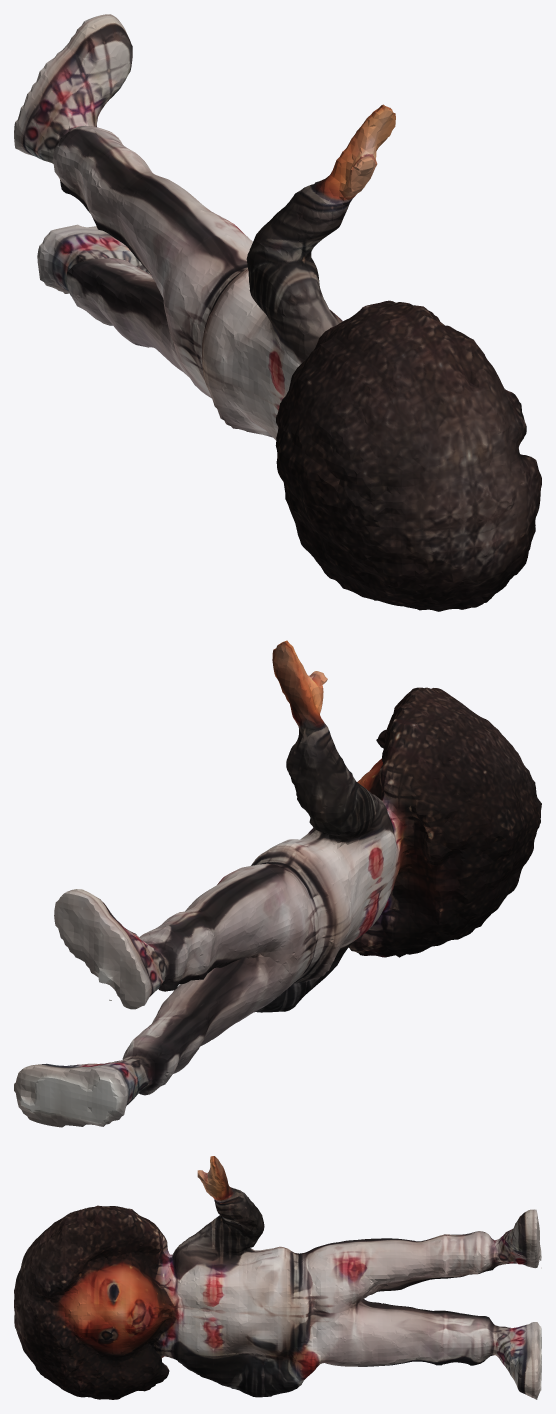
The model's file is skyy-instantmesh.obj.
The picture shows the model from 3 angles, top to bottom: view 1: azimuth 30°, elevation 25°; view 2: azimuth 150°, elevation 25°; view 3: azimuth 270°, elevation 25°; orthographic projection. The views are drawn at different scales.
Bounding box in the file's own units: 0.65 × 1.05 × 1.99.
Materials: 1 (1 with a texture image).
